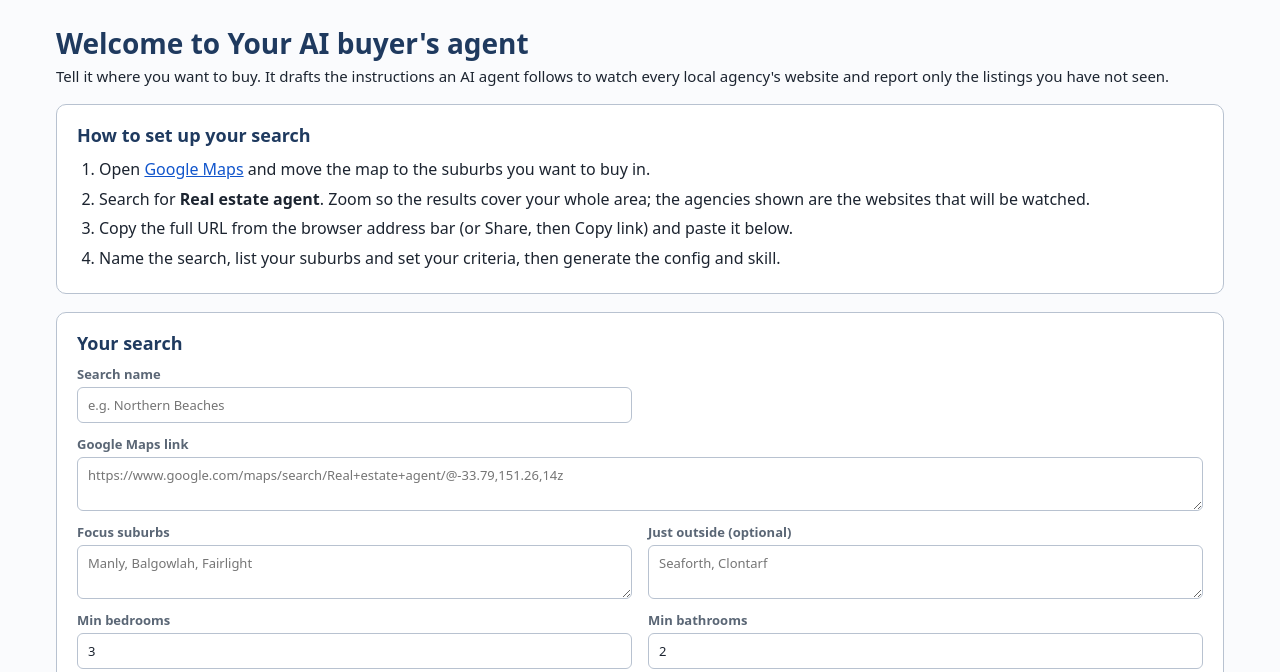
HomePage › explains when a pasted link cannot be read
Type "https://maps.app.goo.gl/xyz" into the text box labelled "Google Maps link" at (640, 484), box left=77, top=457, right=1203, bottom=511
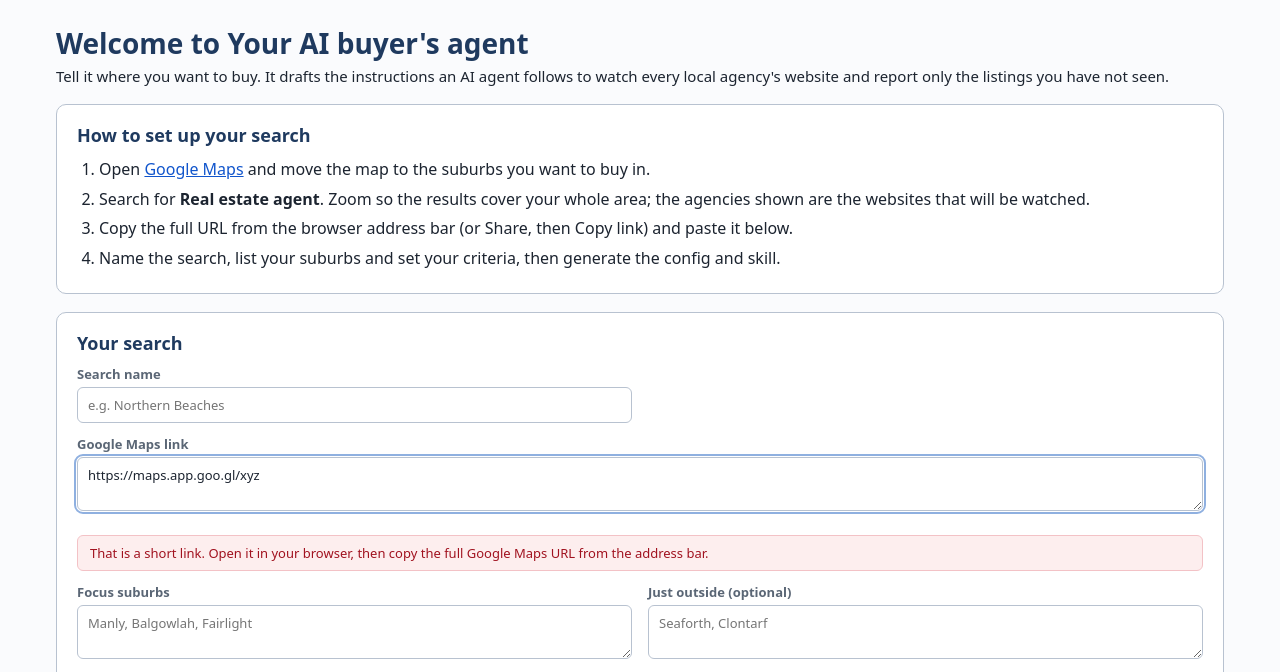
Check: the message shows "short link", box left=90, top=544, right=708, bottom=562
